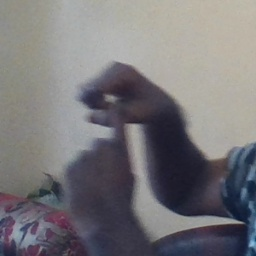Q: (56, 57, 162, 209)
